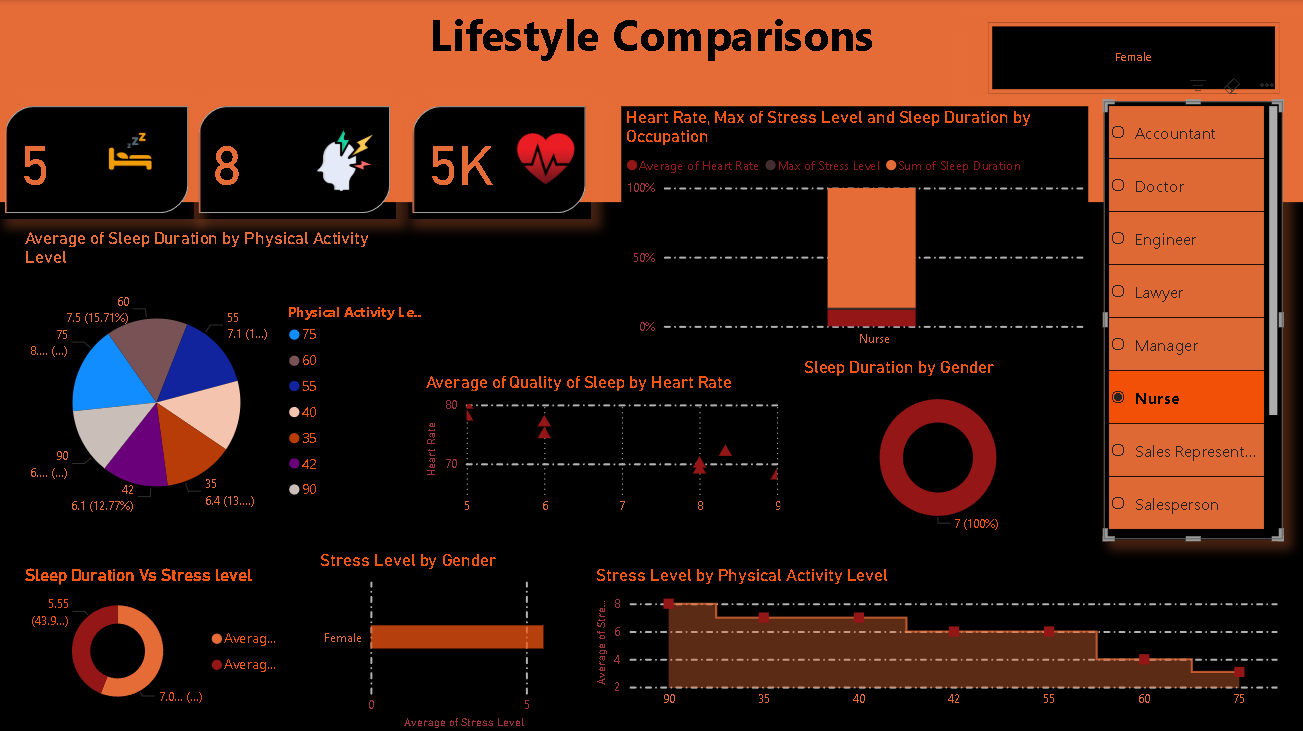

The dashboard page shown, as its layout file describes it:
{"tool":"powerbi","page":{"name":"Page 2`","canvas":[1280,720],"ordinal":1},"visuals":[{"type":"textbox","box":[0,0,1280,198.3],"z":0},{"type":"pieChart","fields":{"Category":["Sleep_health_and_lifestyle_dataset.Physical Activity Level"],"Y":["Avg(Sleep_health_and_lifestyle_dataset.Sleep Duration)"]},"box":[20,223.3,393.3,306.7],"z":1000},{"type":"slicer","fields":{"Values":["Sleep_health_and_lifestyle_dataset.Gender"]},"box":[943.8,15,336.2,83.8],"z":2000},{"type":"donutChart","title":"Sleep Duration Vs Stress level","fields":{"Y":["Avg(Sleep_health_and_lifestyle_dataset.Sleep Duration)","Avg(Sleep_health_and_lifestyle_dataset.Stress Level)"]},"box":[20,555,270,150],"z":3000},{"type":"scatterChart","fields":{"Y":["Sleep_health_and_lifestyle_dataset.Heart Rate"],"X":["Sleep_health_and_lifestyle_dataset.Quality of Sleep"]},"box":[413.8,365,357.5,150],"z":4000},{"type":"lineChart","title":"Stress Level by Physical Activity Level","fields":{"Category":["Sleep_health_and_lifestyle_dataset.Physical Activity Level"],"Y":["Avg(Sleep_health_and_lifestyle_dataset.Stress Level)"]},"box":[580,555,678.8,150],"z":5000},{"type":"cardVisual","fields":{"Data":["Min(Sleep_health_and_lifestyle_dataset.Quality of Sleep)"]},"box":[0,100,190,115],"z":6000},{"type":"cardVisual","fields":{"Data":["Max(Sleep_health_and_lifestyle_dataset.Stress Level)"]},"box":[190,100,198.3,115],"z":7000},{"type":"cardVisual","fields":{"Data":["Sum(Sleep_health_and_lifestyle_dataset.Heart Rate)"]},"box":[400,100,180,115],"z":8000},{"type":"hundredPercentStackedColumnChart","title":"Heart Rate, Max of Stress Level and Sleep Duration by Occupation","fields":{"Y":["Avg(Sleep_health_and_lifestyle_dataset.Heart Rate)","Max(Sleep_health_and_lifestyle_dataset.Stress Level)","Sum(Sleep_health_and_lifestyle_dataset.Sleep Duration)"],"Category":["Sleep_health_and_lifestyle_dataset.Occupation"]},"box":[610,103.8,458.8,246.2],"z":9000},{"type":"listSlicer","title":"Age, BMI Category and Sleep Disorder by Occupation","fields":{"Values":["Sleep_health_and_lifestyle_dataset.Occupation"]},"box":[1083.8,100,175,430],"z":10000},{"type":"donutChart","title":"Sleep Duration by Gender","fields":{"Y":["Avg(Sleep_health_and_lifestyle_dataset.Sleep Duration)"],"Category":["Sleep_health_and_lifestyle_dataset.Gender"]},"box":[783.8,350,273.8,180],"z":11000},{"type":"barChart","title":"Stress Level by Gender","fields":{"Y":["Avg(Sleep_health_and_lifestyle_dataset.Stress Level)"],"Category":["Sleep_health_and_lifestyle_dataset.Gender"]},"box":[308.8,540,246.2,180],"z":12000}]}

Visuals, with their boxes in screenshot pixels (x1, y1, x2, y2), scaled from the page's 1280x720 canvas onto the 1303x731 screenshot:
textbox: (0, 0, 1302, 201)
pieChart - Sleep_health_and_lifestyle_dataset.Physical Activity Level x Avg(Sleep_health_and_lifestyle_dataset.Sleep Duration): (20, 227, 421, 538)
slicer - Sleep_health_and_lifestyle_dataset.Gender: (961, 15, 1302, 100)
"Sleep Duration Vs Stress level" donutChart: (20, 563, 295, 716)
scatterChart - Sleep_health_and_lifestyle_dataset.Heart Rate x Sleep_health_and_lifestyle_dataset.Quality of Sleep: (421, 371, 785, 523)
"Stress Level by Physical Activity Level" lineChart: (590, 563, 1281, 716)
cardVisual - Min(Sleep_health_and_lifestyle_dataset.Quality of Sleep): (0, 102, 193, 218)
cardVisual - Max(Sleep_health_and_lifestyle_dataset.Stress Level): (193, 102, 395, 218)
cardVisual - Sum(Sleep_health_and_lifestyle_dataset.Heart Rate): (407, 102, 590, 218)
"Heart Rate, Max of Stress Level and Sleep Duration by Occupation" hundredPercentStackedColumnChart: (621, 105, 1088, 355)
"Age, BMI Category and Sleep Disorder by Occupation" listSlicer: (1103, 102, 1281, 538)
"Sleep Duration by Gender" donutChart: (798, 355, 1077, 538)
"Stress Level by Gender" barChart: (314, 548, 565, 730)
